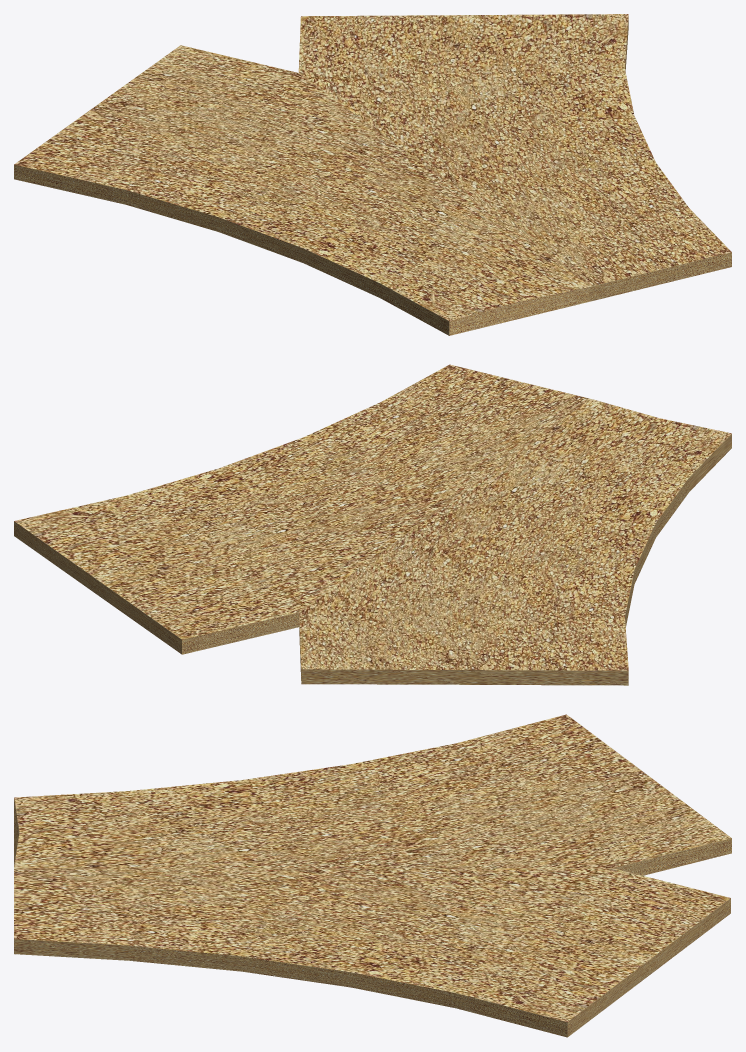
The model's file is 2wayRoad.fbx.
3 renders of one model, top to bottom at view 1: azimuth 30°, elevation 25°; view 2: azimuth 150°, elevation 25°; view 3: azimuth 270°, elevation 25°, orthographic. The views are drawn at different scales.
Parts seen in each view (by area): view 1: 2wayRoad; view 2: 2wayRoad; view 3: 2wayRoad.
Part boxes in pixels (x1,y1,x2,y2): 2wayRoad: (14, 14, 731, 335); 2wayRoad: (14, 364, 731, 685); 2wayRoad: (14, 714, 731, 1037).
Size of the model in its own units: 435 by 10.15 by 429.
1 material, 1 textured.
